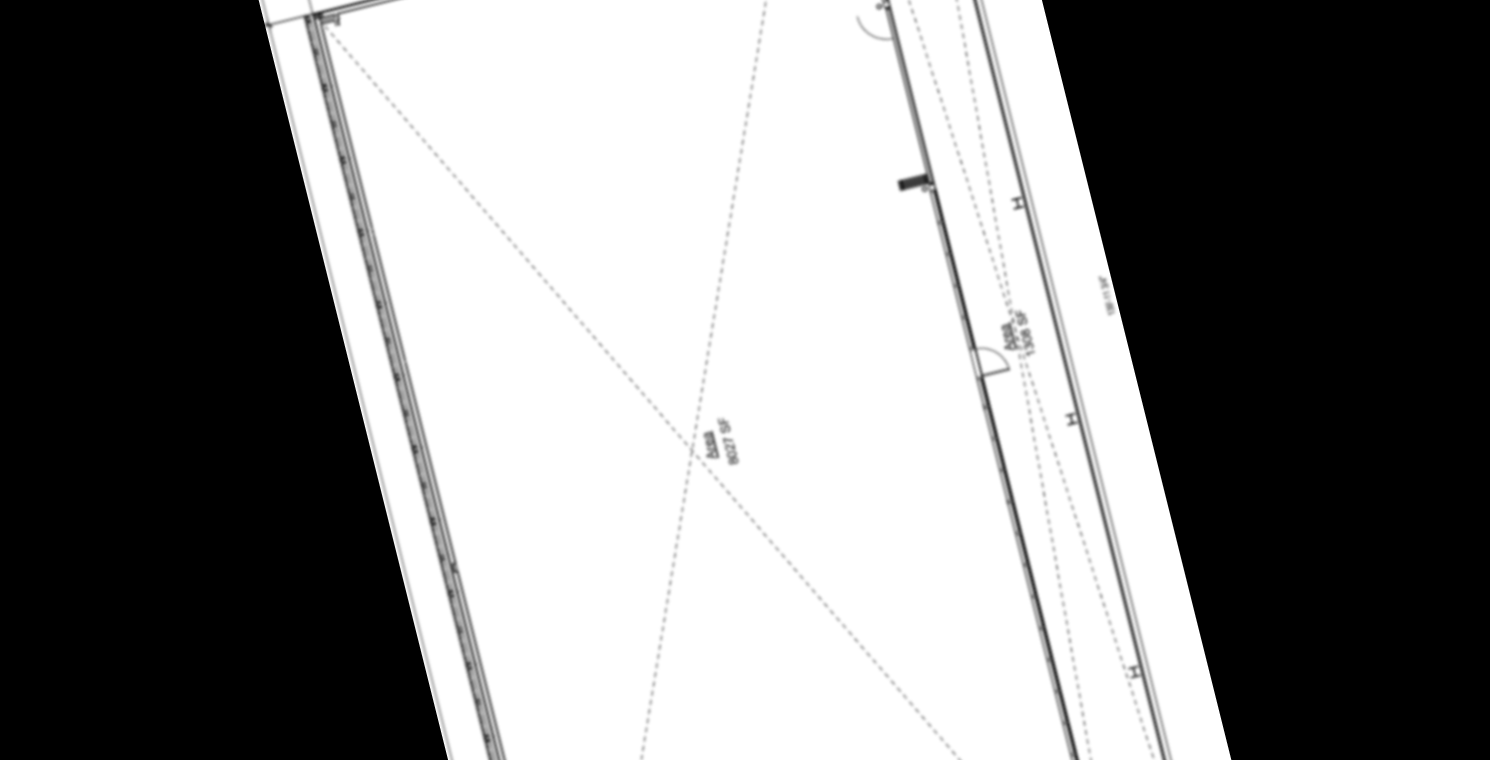door: (961, 337, 1012, 384)
